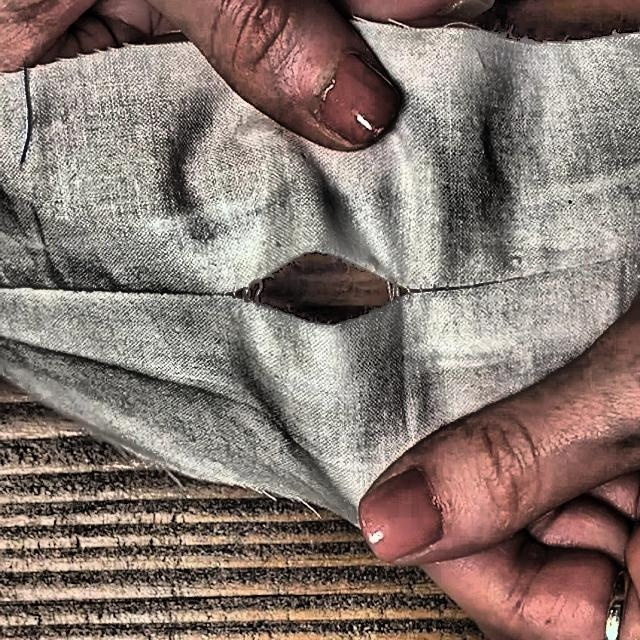seam: (177, 187, 474, 393)
